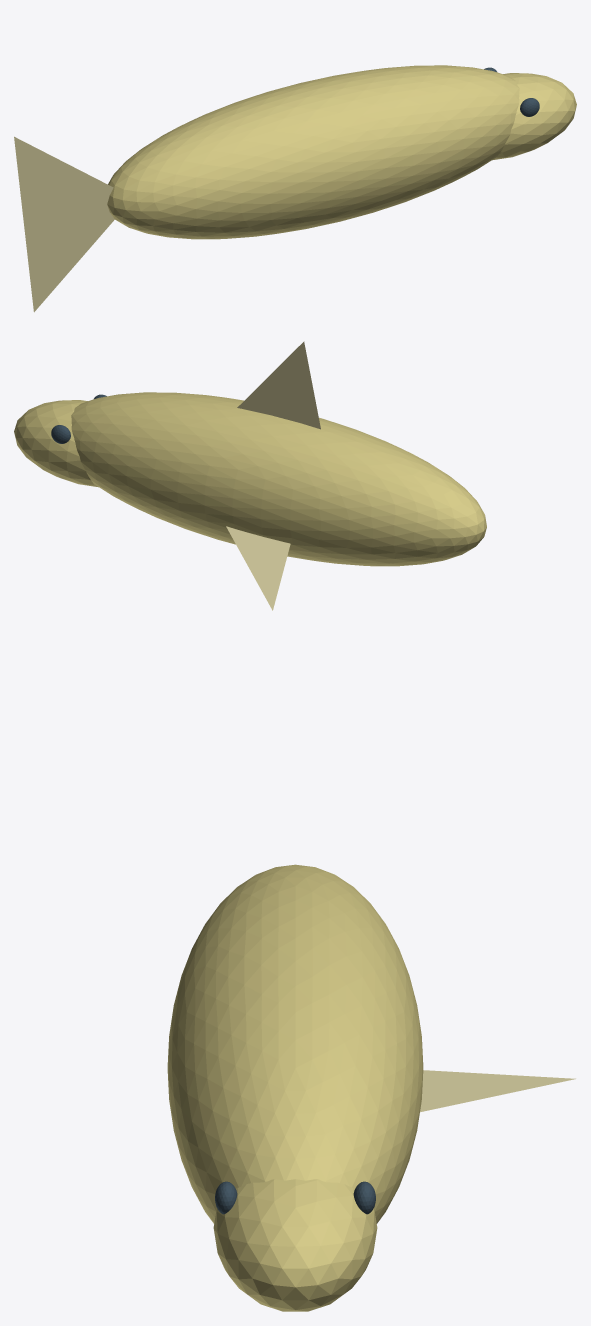
The picture shows the model from 3 angles, top to bottom: view 1: azimuth 30°, elevation 25°; view 2: azimuth 150°, elevation 25°; view 3: azimuth 270°, elevation 25°; orthographic projection. The views are drawn at different scales.
Parts seen in each view (by area): view 1: shark_00, shark_02, shark_01; view 2: shark_00, shark_01, shark_03, shark_04; view 3: shark_00, shark_01, shark_04.
Part boxes in pixels (left/top/right/bottom): shark_00: left=107, top=65, right=519, bottom=239; shark_02: left=14, top=136, right=114, bottom=312; shark_01: left=492, top=73, right=576, bottom=160; shark_00: left=71, top=392, right=486, bottom=566; shark_01: left=14, top=400, right=98, bottom=487; shark_03: left=237, top=341, right=320, bottom=429; shark_04: left=226, top=526, right=290, bottom=610; shark_00: left=167, top=864, right=423, bottom=1223; shark_01: left=213, top=1179, right=377, bottom=1311; shark_04: left=420, top=1070, right=575, bottom=1112.
Size of the model in its own units: 4.2 by 1.7 by 2.2.
